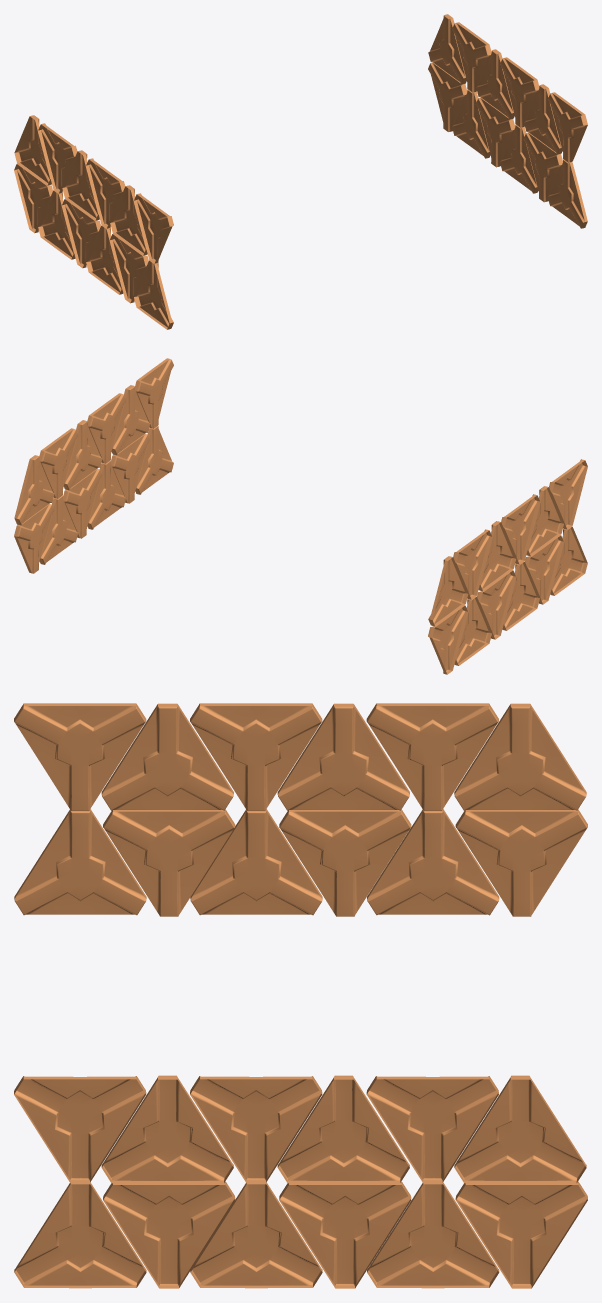
Rendered from wallGreeble_02.fbx.
3 views of the same model, one above another, from view 1: azimuth 30°, elevation 25°; view 2: azimuth 150°, elevation 25°; view 3: azimuth 270°, elevation 25° (orthographic). The views are drawn at different scales.
Visible parts, largest first — view 1: wallGreeble_02; view 2: wallGreeble_02; view 3: wallGreeble_02.
Boxes of the visible parts, x1,y1,x2,y2 form: wallGreeble_02: (14,14,587,329); wallGreeble_02: (14,358,587,674); wallGreeble_02: (14,703,587,1288).
Size of the model in its own units: 24.5 by 6.36 by 15.8.
